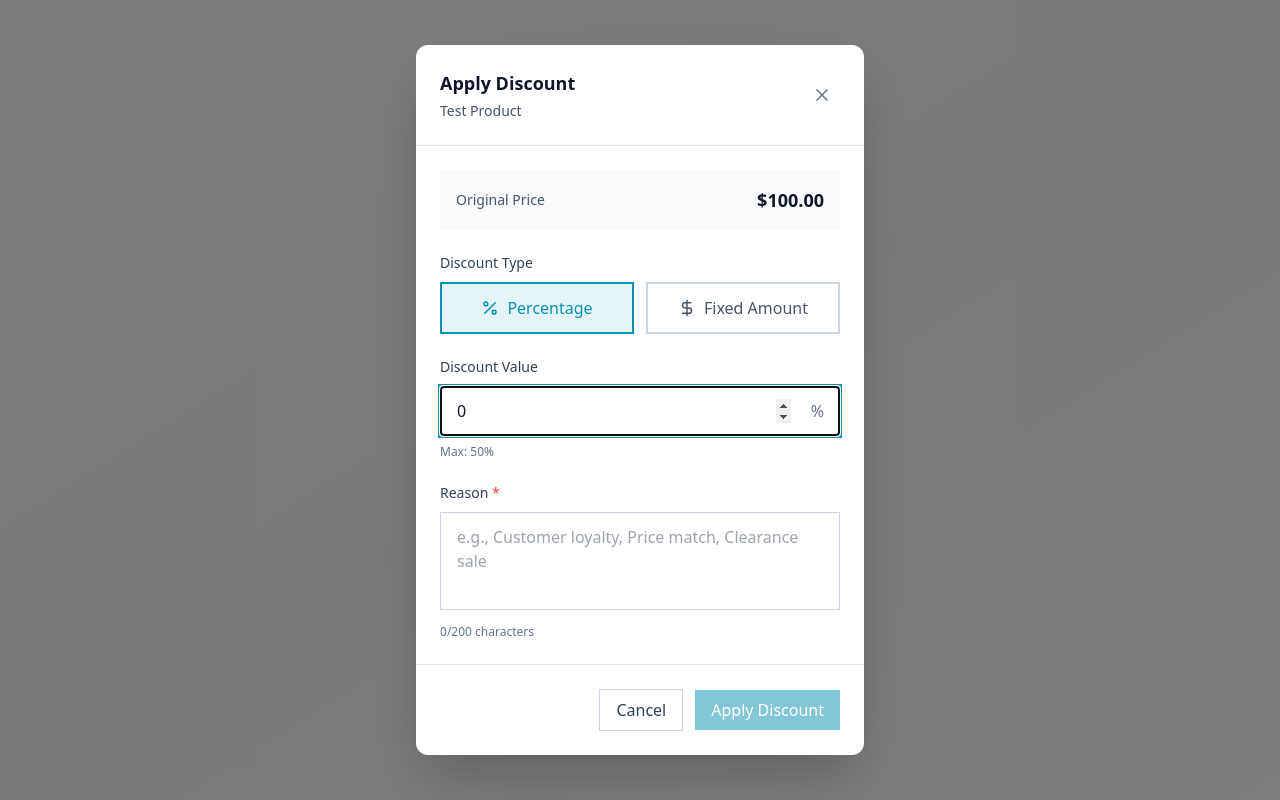
DiscountModal › calculates percentage discount correctly
The width and height of the screenshot is (1280, 800).
Type "20" into the number field with placeholder "0" at (640, 411), box [440,386,840,436]
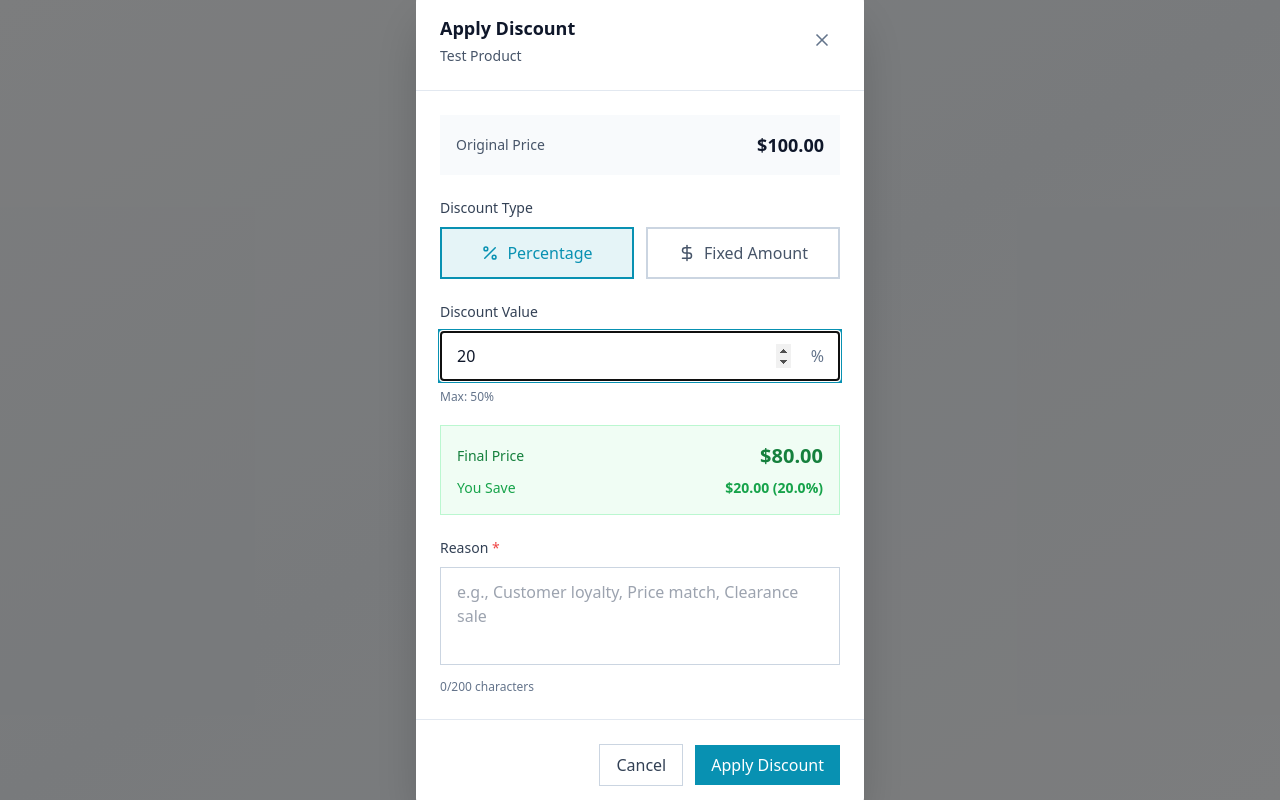
Expected: the text "$80.00" is shown, [760,442,823,470]
Expected: the text "$20.00 (20.0%)" is shown, [725,478,823,498]
